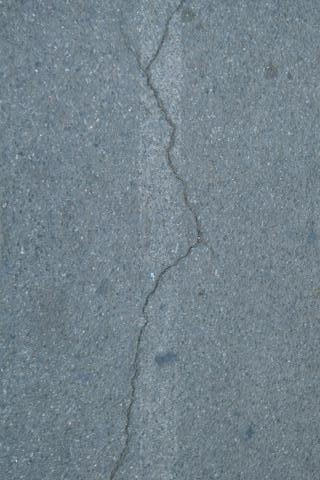A: (110, 3, 205, 480)
